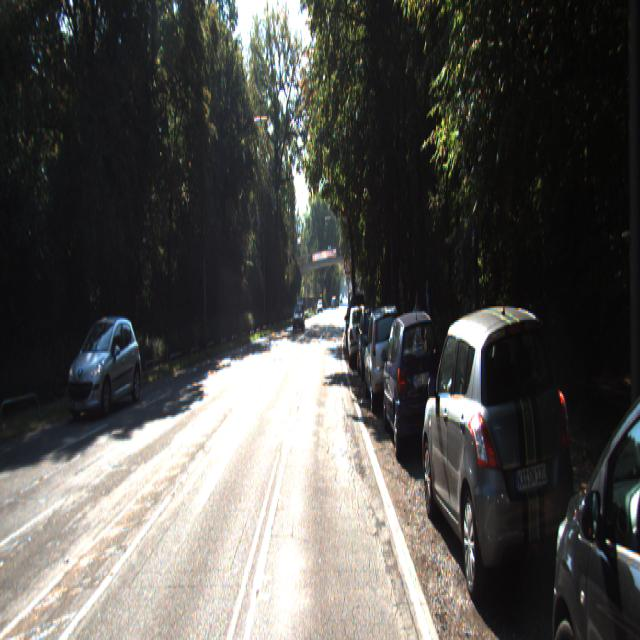Car: (419, 306, 587, 623), (540, 320, 640, 638), (381, 307, 447, 463), (65, 313, 143, 419), (363, 307, 410, 416), (357, 304, 388, 382), (347, 303, 370, 365), (293, 297, 305, 327)
